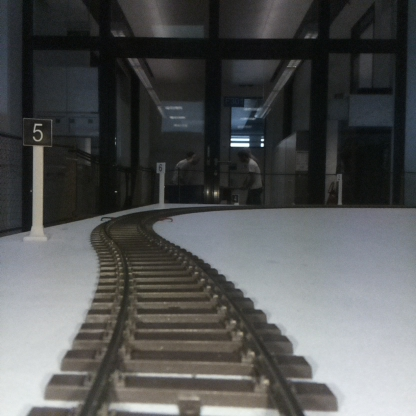black-info-5: (23, 119, 51, 239)
white-info-6: (157, 162, 165, 208)
